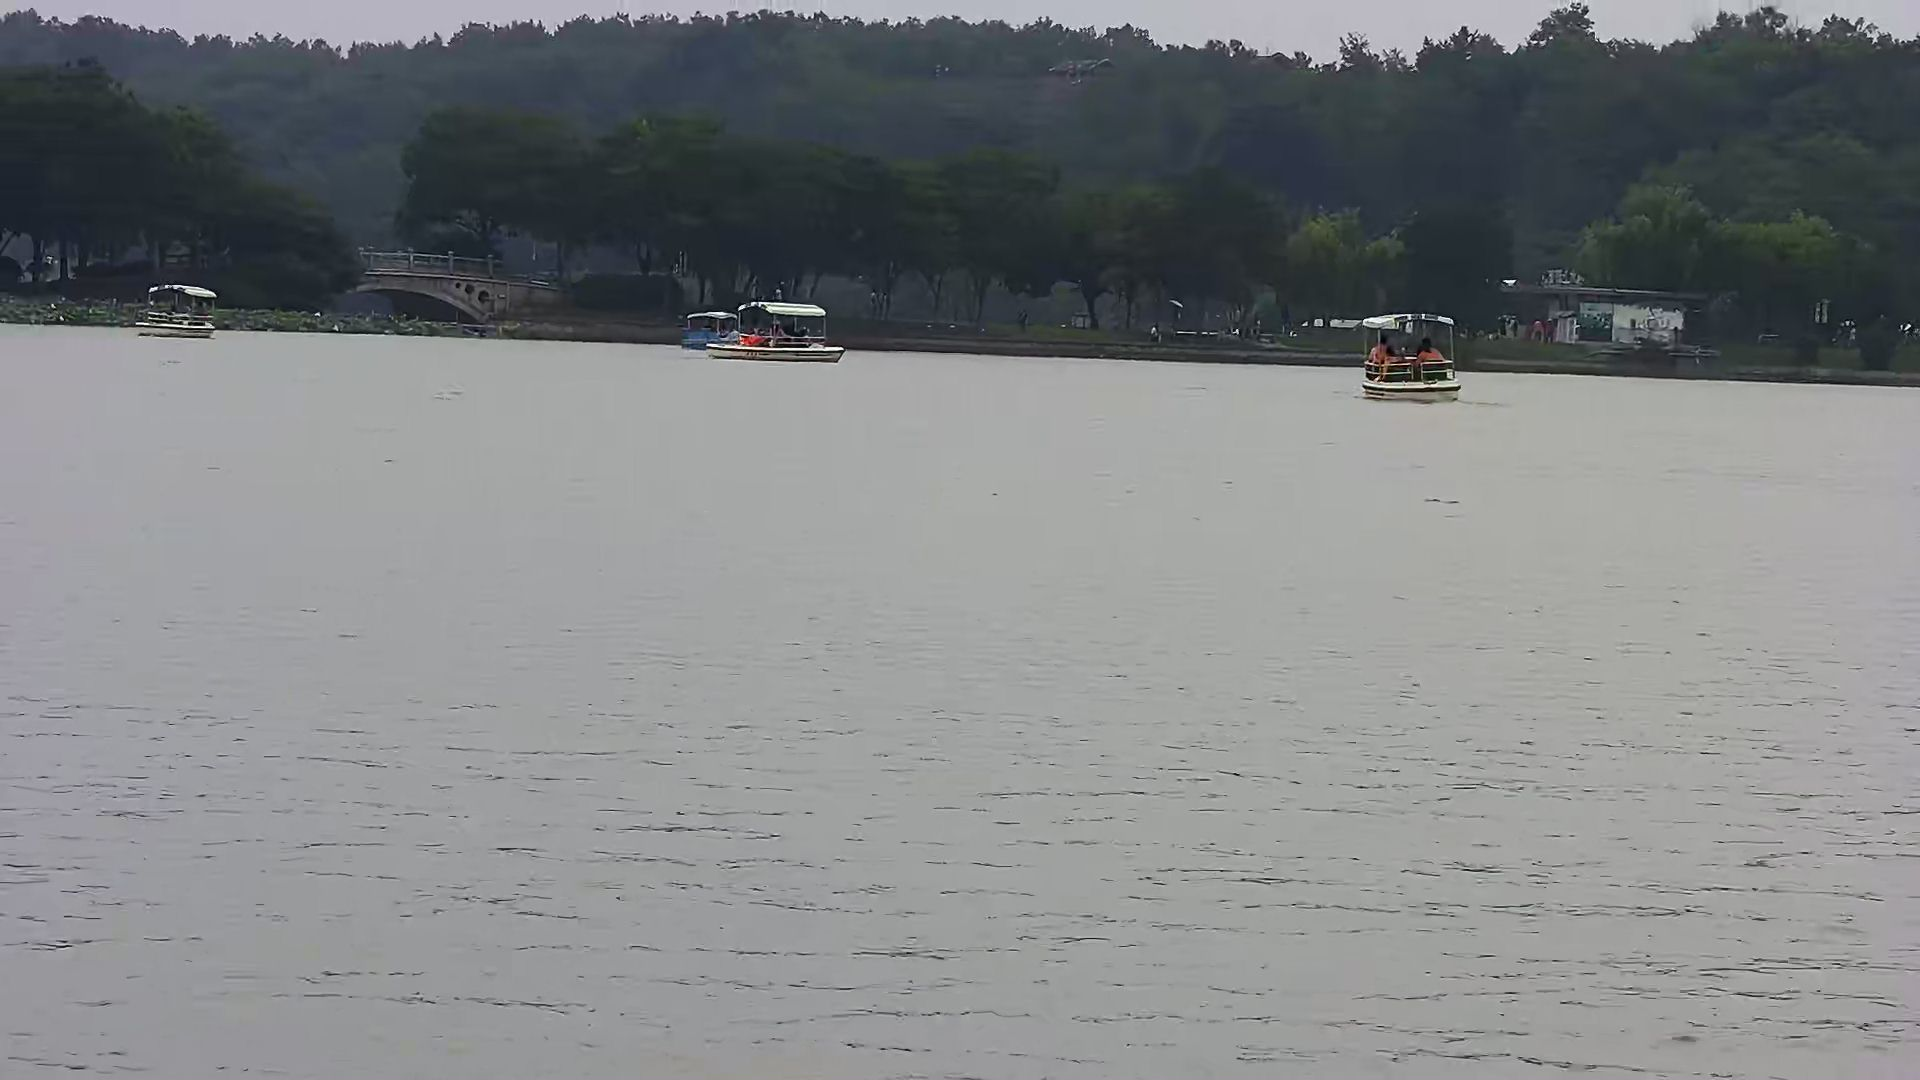boat: (1338, 298, 1474, 407), (703, 293, 861, 372), (123, 273, 225, 342), (669, 297, 746, 349)
bridge: (301, 233, 582, 327)
